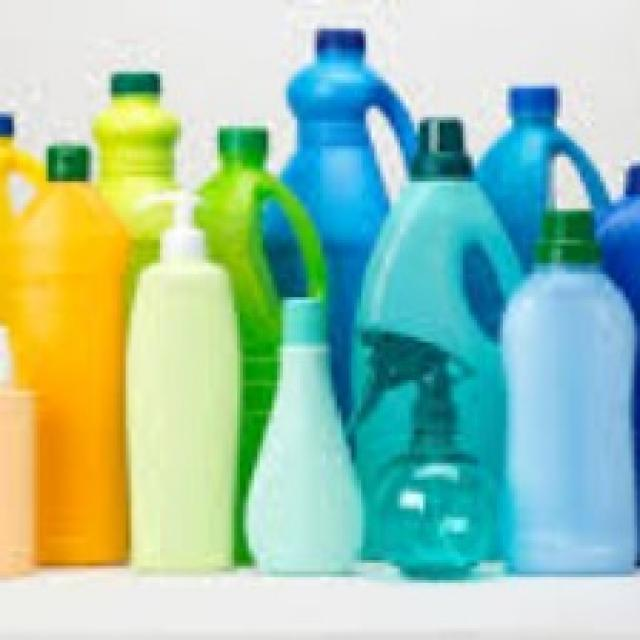plastic: (371, 345, 492, 579)
plastic_bottle: (10, 140, 131, 567), (504, 211, 640, 569), (125, 185, 240, 567), (375, 129, 515, 358), (251, 305, 364, 575), (276, 23, 390, 241), (199, 130, 325, 305), (93, 75, 178, 222)
